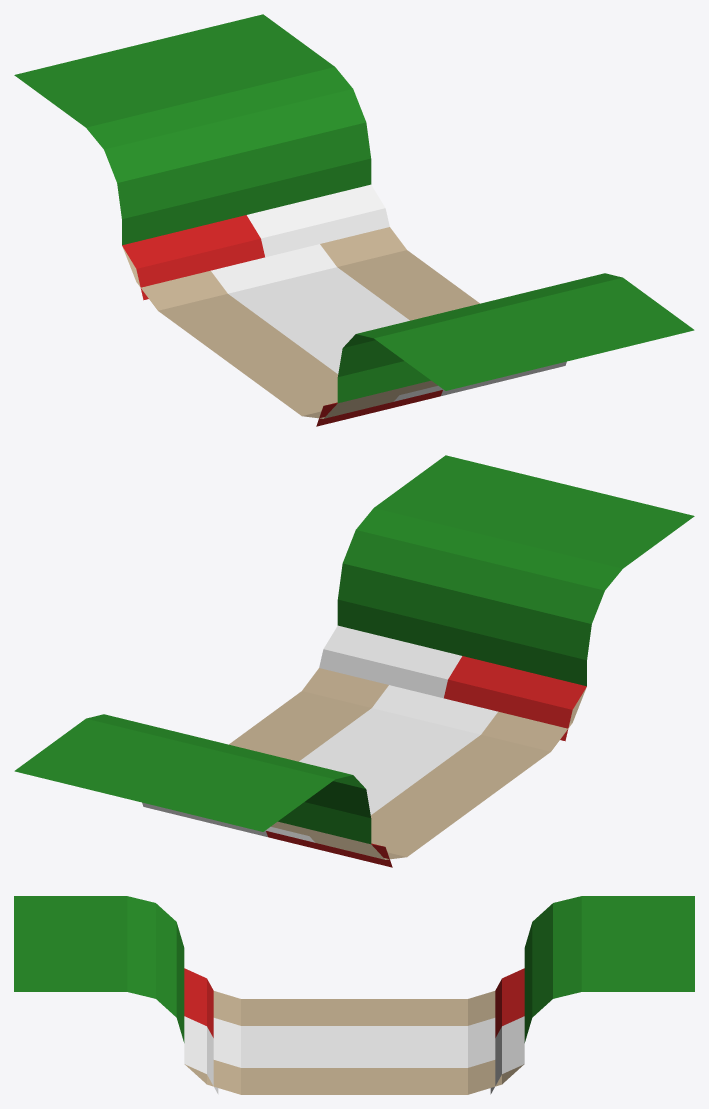
File: Track_Striped_Finish_Line_Single_Blank.obj
The picture shows the model from 3 angles, top to bottom: view 1: azimuth 30°, elevation 25°; view 2: azimuth 150°, elevation 25°; view 3: azimuth 270°, elevation 25°; orthographic projection. The views are drawn at different scales.
Visible parts, largest first — view 1: Grass, Dirt, Ground_Finish_Line, Raceline_Color_2, Raceline_Color_1; view 2: Grass, Dirt, Ground_Finish_Line, Raceline_Color_2, Raceline_Color_1; view 3: Grass, Dirt, Ground_Finish_Line, Raceline_Color_1, Raceline_Color_2.
Boxes of the visible parts, x1=… form: Grass: x1=14, y1=14, x2=694, y2=403; Dirt: x1=122, y1=227, x2=479, y2=418; Ground_Finish_Line: x1=211, y1=244, x2=443, y2=401; Raceline_Color_2: x1=122, y1=215, x2=442, y2=426; Raceline_Color_1: x1=247, y1=184, x2=566, y2=395; Grass: x1=14, y1=455, x2=694, y2=844; Dirt: x1=229, y1=668, x2=586, y2=859; Ground_Finish_Line: x1=265, y1=685, x2=497, y2=842; Raceline_Color_2: x1=266, y1=656, x2=586, y2=867; Raceline_Color_1: x1=142, y1=625, x2=461, y2=836; Grass: x1=14, y1=896, x2=694, y2=1042; Dirt: x1=184, y1=991, x2=524, y2=1094; Ground_Finish_Line: x1=213, y1=1018, x2=495, y2=1067; Raceline_Color_1: x1=184, y1=1016, x2=524, y2=1094; Raceline_Color_2: x1=184, y1=968, x2=524, y2=1037.
Bounding box in the file's own units: 1 × 0.5 × 3.
